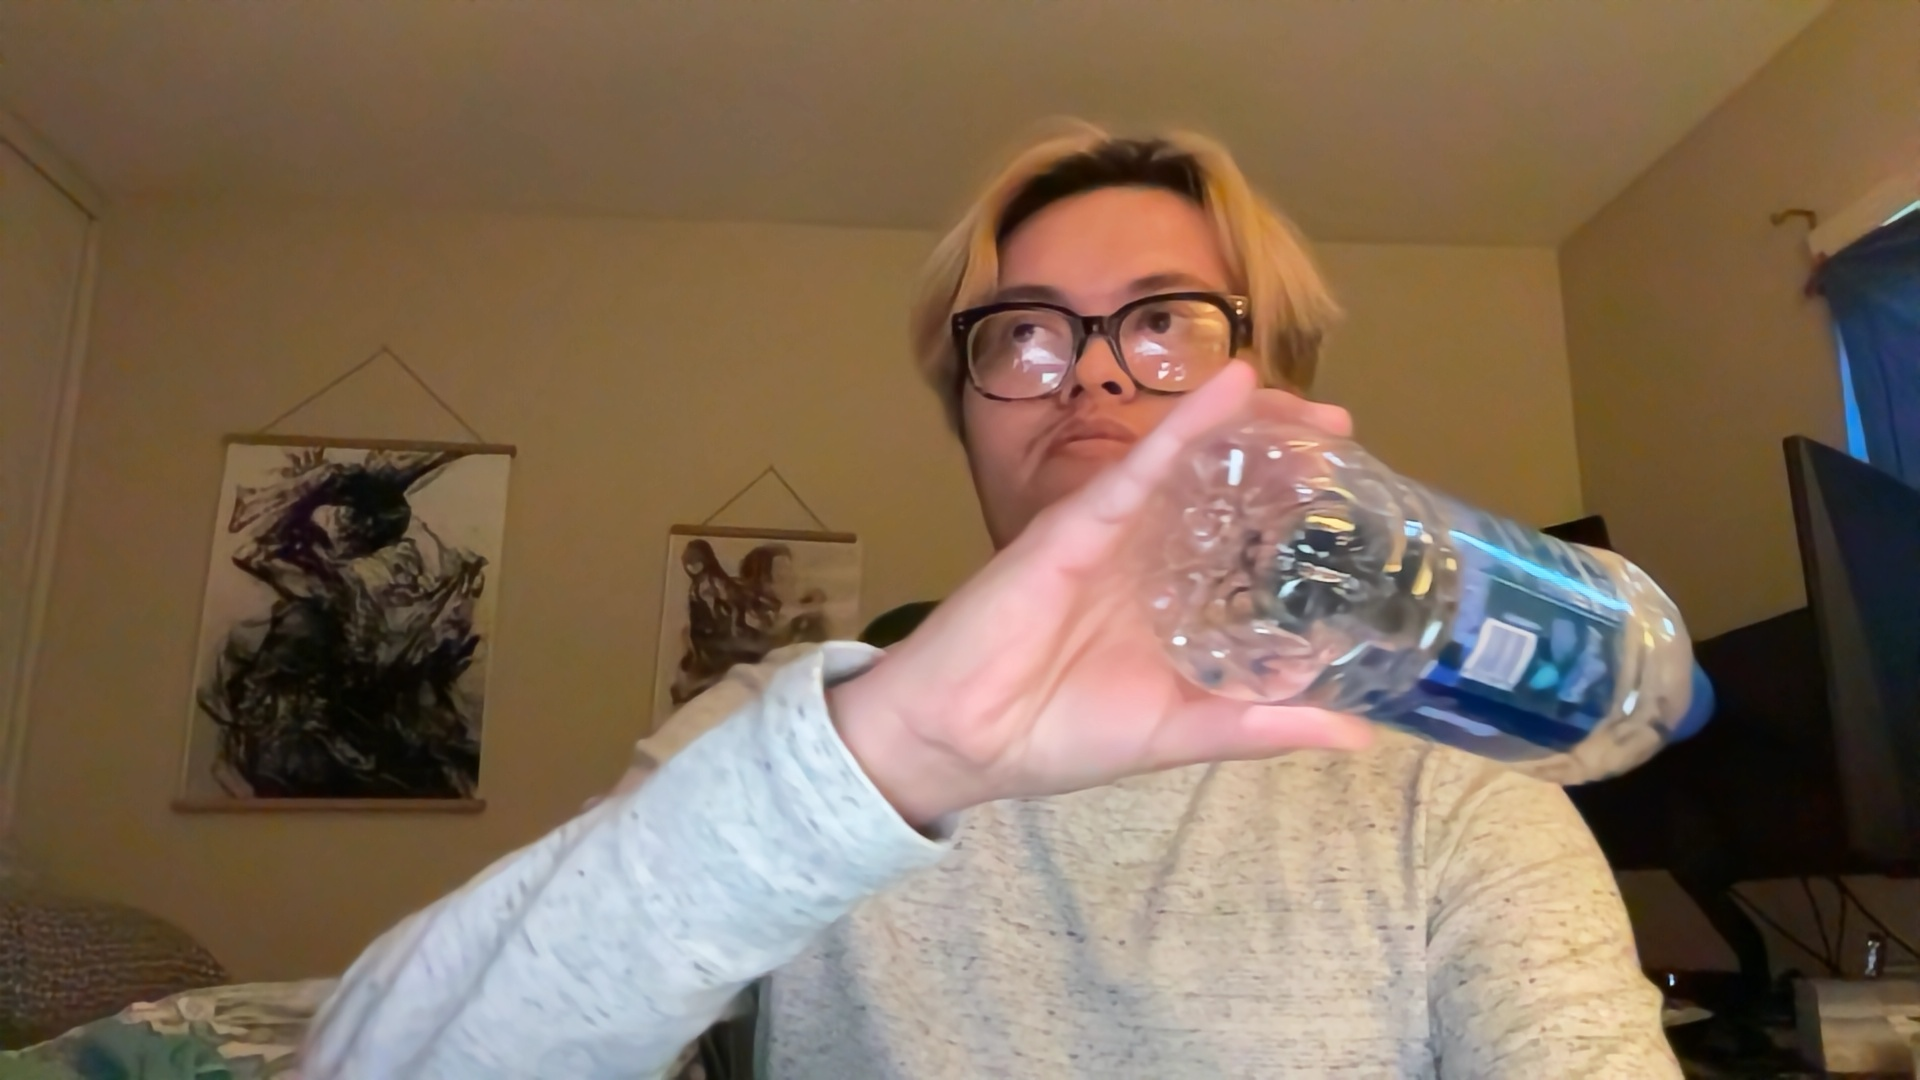bottle: (1134, 409, 1730, 796)
